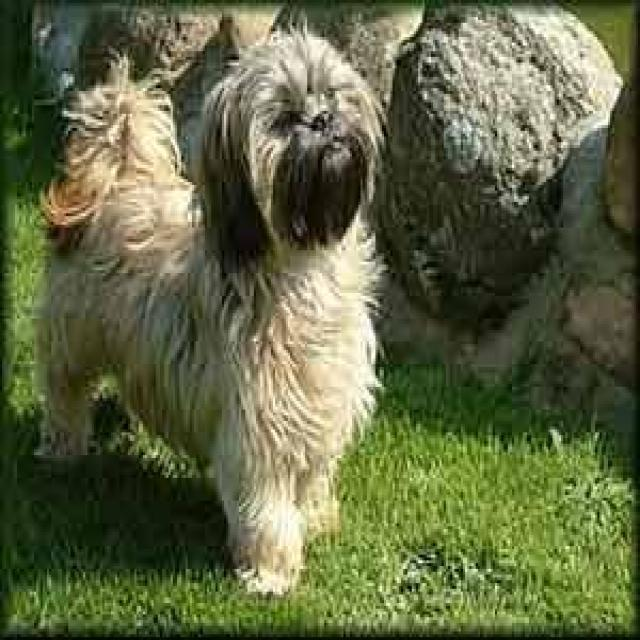shih_tzu: (41, 26, 380, 594)
